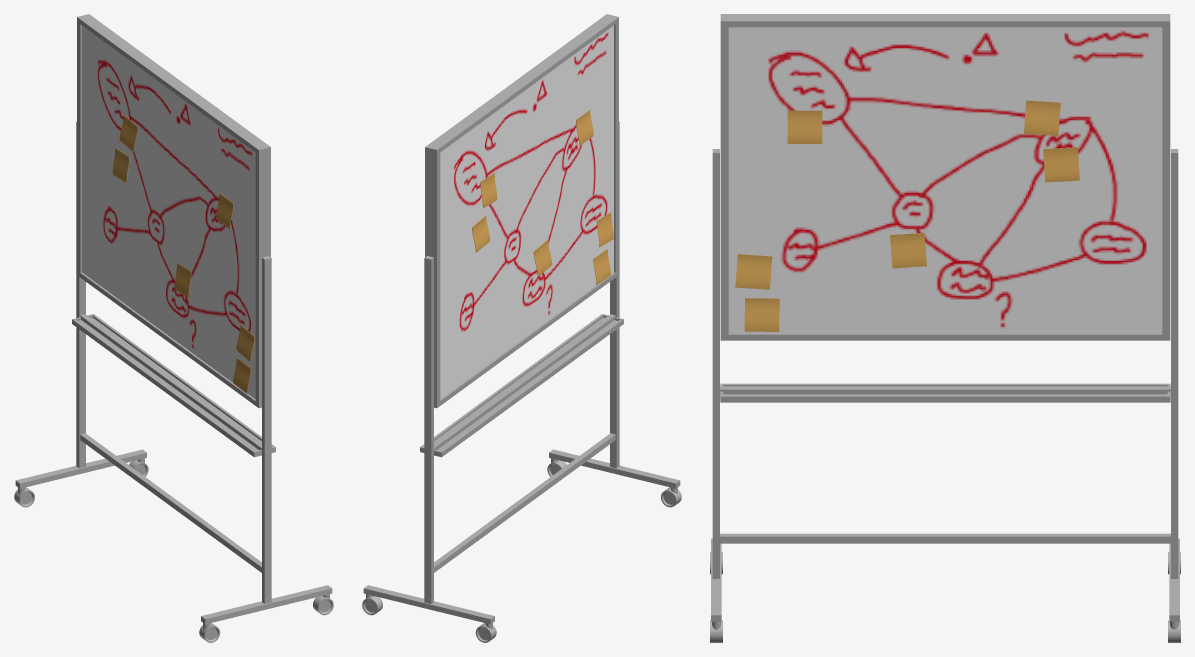
Rendered from WhiteBoard.fbx.
The picture shows the model from 3 angles, left to right: view 1: azimuth 30°, elevation 25°; view 2: azimuth 150°, elevation 25°; view 3: azimuth 270°, elevation 25°; orthographic projection. The views are drawn at different scales.
Parts seen in each view (by area): view 1: WhiteBoard; view 2: WhiteBoard; view 3: WhiteBoard.
Part boxes in pixels (x1,y1,x2,y2): WhiteBoard: (14,14,333,642); WhiteBoard: (362,14,681,642); WhiteBoard: (710,14,1180,642).
Bounding box in the file's own units: 637 × 2248 × 1626.
